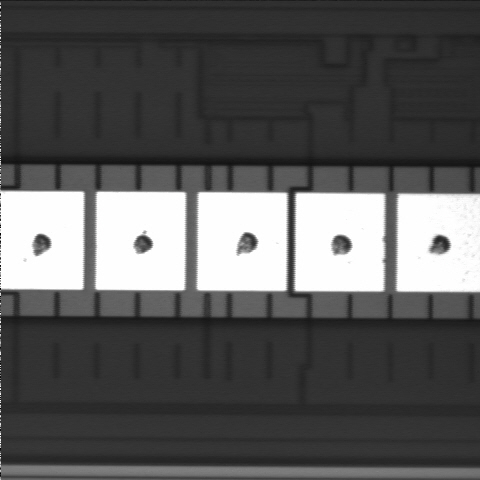pad: (197, 192, 287, 291), (96, 192, 186, 290), (295, 193, 385, 291)
